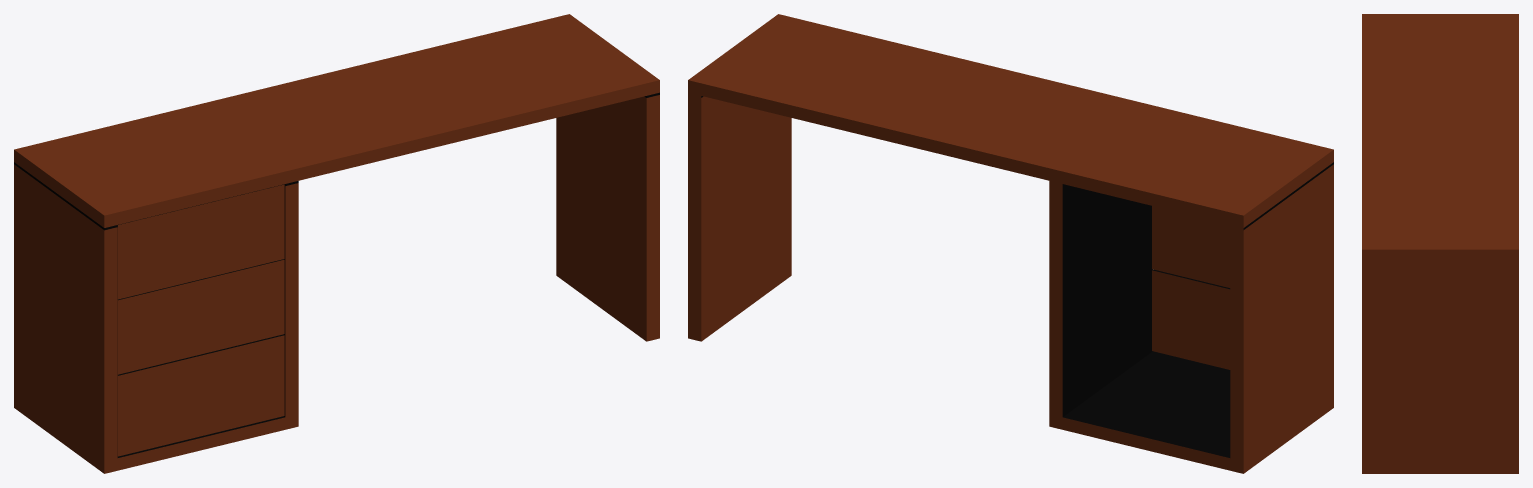
The model's file is meja.obj.
The picture shows the model from 3 angles, left to right: view 1: azimuth 30°, elevation 25°; view 2: azimuth 150°, elevation 25°; view 3: azimuth 270°, elevation 25°; orthographic projection. The views are drawn at different scales.
Visible parts, largest first — view 1: Table.002_Cube.107; view 2: Table.002_Cube.107; view 3: Table.002_Cube.107.
Part boxes in pixels (x1,y1,x2,y2): Table.002_Cube.107: (14,14,659,473); Table.002_Cube.107: (688,14,1333,473); Table.002_Cube.107: (1362,14,1518,473).
Size of the model in its own units: 3.44 by 1.53 by 0.9684.
